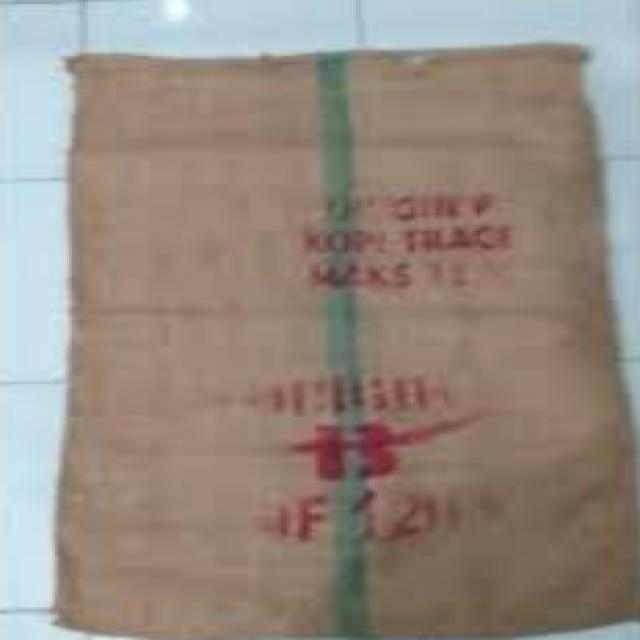KantongSemen: (50, 41, 637, 638)
